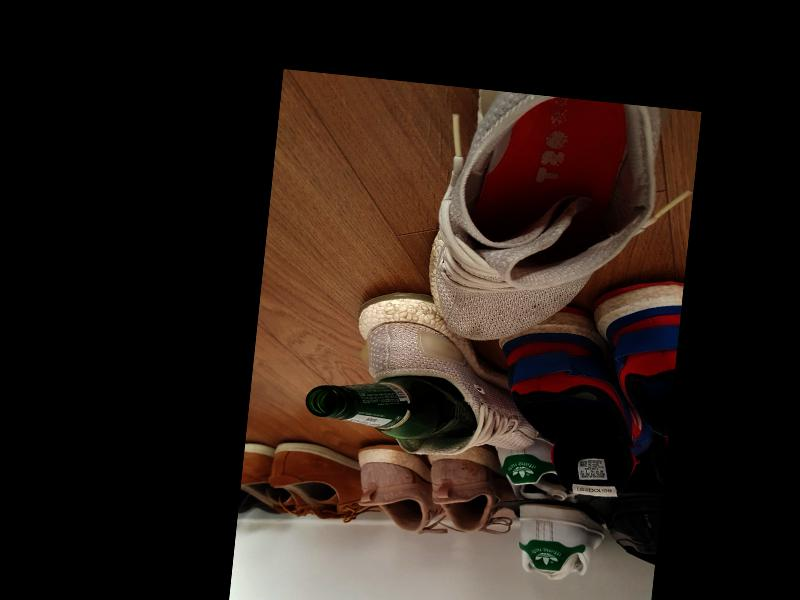Beer: (303, 364, 480, 444)
